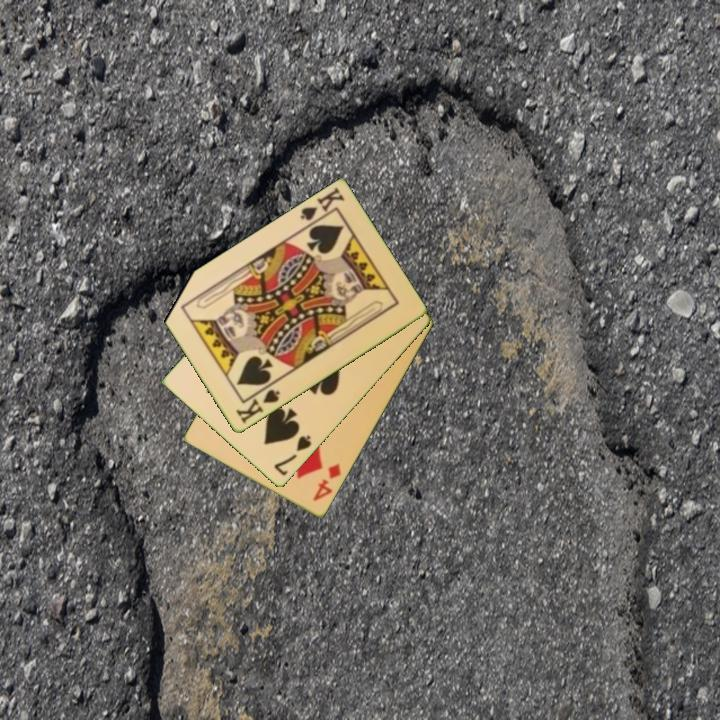4d: (309, 460, 344, 504)
7s: (271, 432, 315, 479)
Ks: (297, 184, 348, 231), (232, 386, 283, 427)
